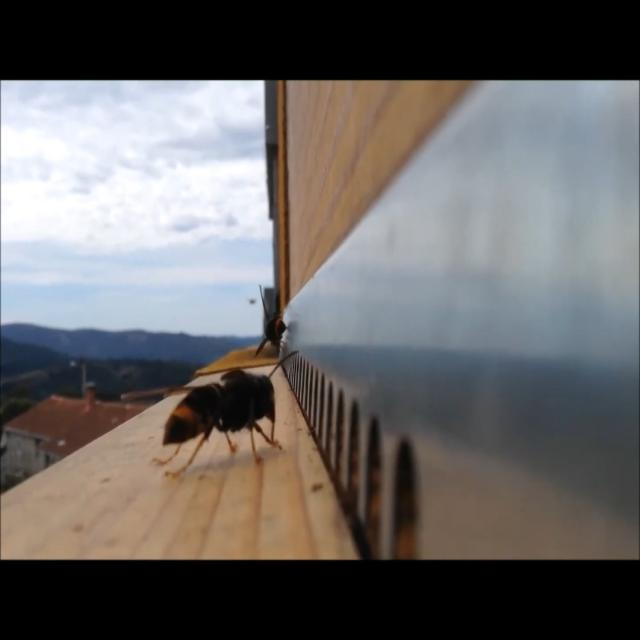Hornets: (116, 347, 300, 472)
